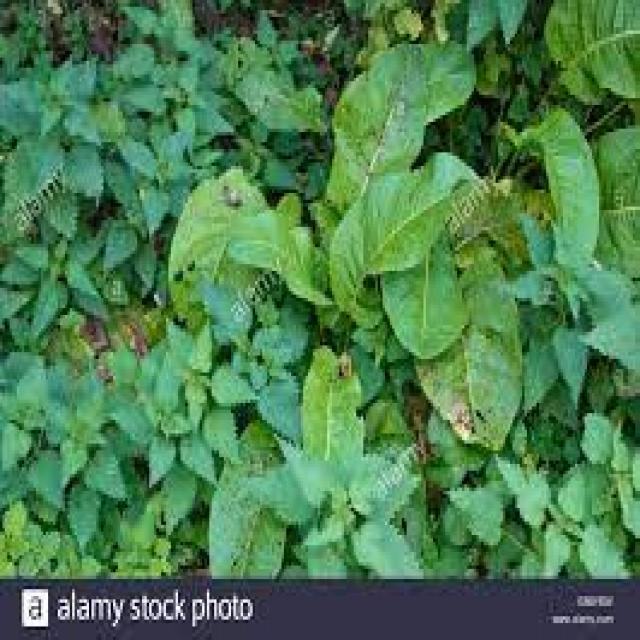organic waste: (159, 50, 558, 488)
